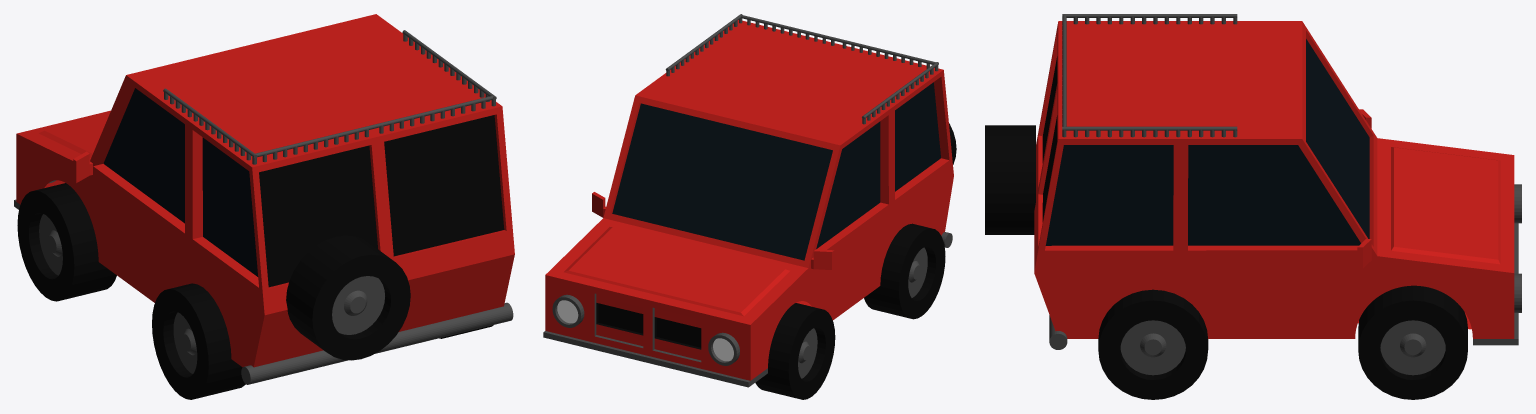
Rendered from redcar1.obj.
The picture shows the model from 3 angles, left to right: view 1: azimuth 30°, elevation 25°; view 2: azimuth 150°, elevation 25°; view 3: azimuth 270°, elevation 25°; orthographic projection. The views are drawn at different scales.
Visible parts, largest first — view 1: Cube_Cube.001, Cylinder.004, Cylinder.003, Cylinder.001, Cube.001_Cube.002; view 2: Cube_Cube.001, Cylinder.003, Cylinder.001, Cylinder.002; view 3: Cube_Cube.001, Cylinder.003, Cylinder.001, Cylinder.004, Cylinder.002.
Part boxes in pixels (<box>): Cube_Cube.001: <box>14,14,514,367</box>; Cylinder.004: <box>286,235,410,360</box>; Cylinder.003: <box>17,183,116,301</box>; Cylinder.001: <box>152,283,493,399</box>; Cube.001_Cube.002: <box>241,302,513,384</box>; Cube_Cube.001: <box>543,14,953,387</box>; Cylinder.003: <box>755,303,835,399</box>; Cylinder.001: <box>864,223,945,319</box>; Cylinder.002: <box>552,294,739,365</box>; Cube_Cube.001: <box>1034,14,1518,345</box>; Cylinder.003: <box>1358,285,1467,399</box>; Cylinder.001: <box>1098,289,1208,399</box>; Cylinder.004: <box>985,125,1035,234</box>; Cylinder.002: <box>1514,184,1521,312</box>.
Bounding box in the file's own units: 0.7243 × 0.6286 × 1.18.
